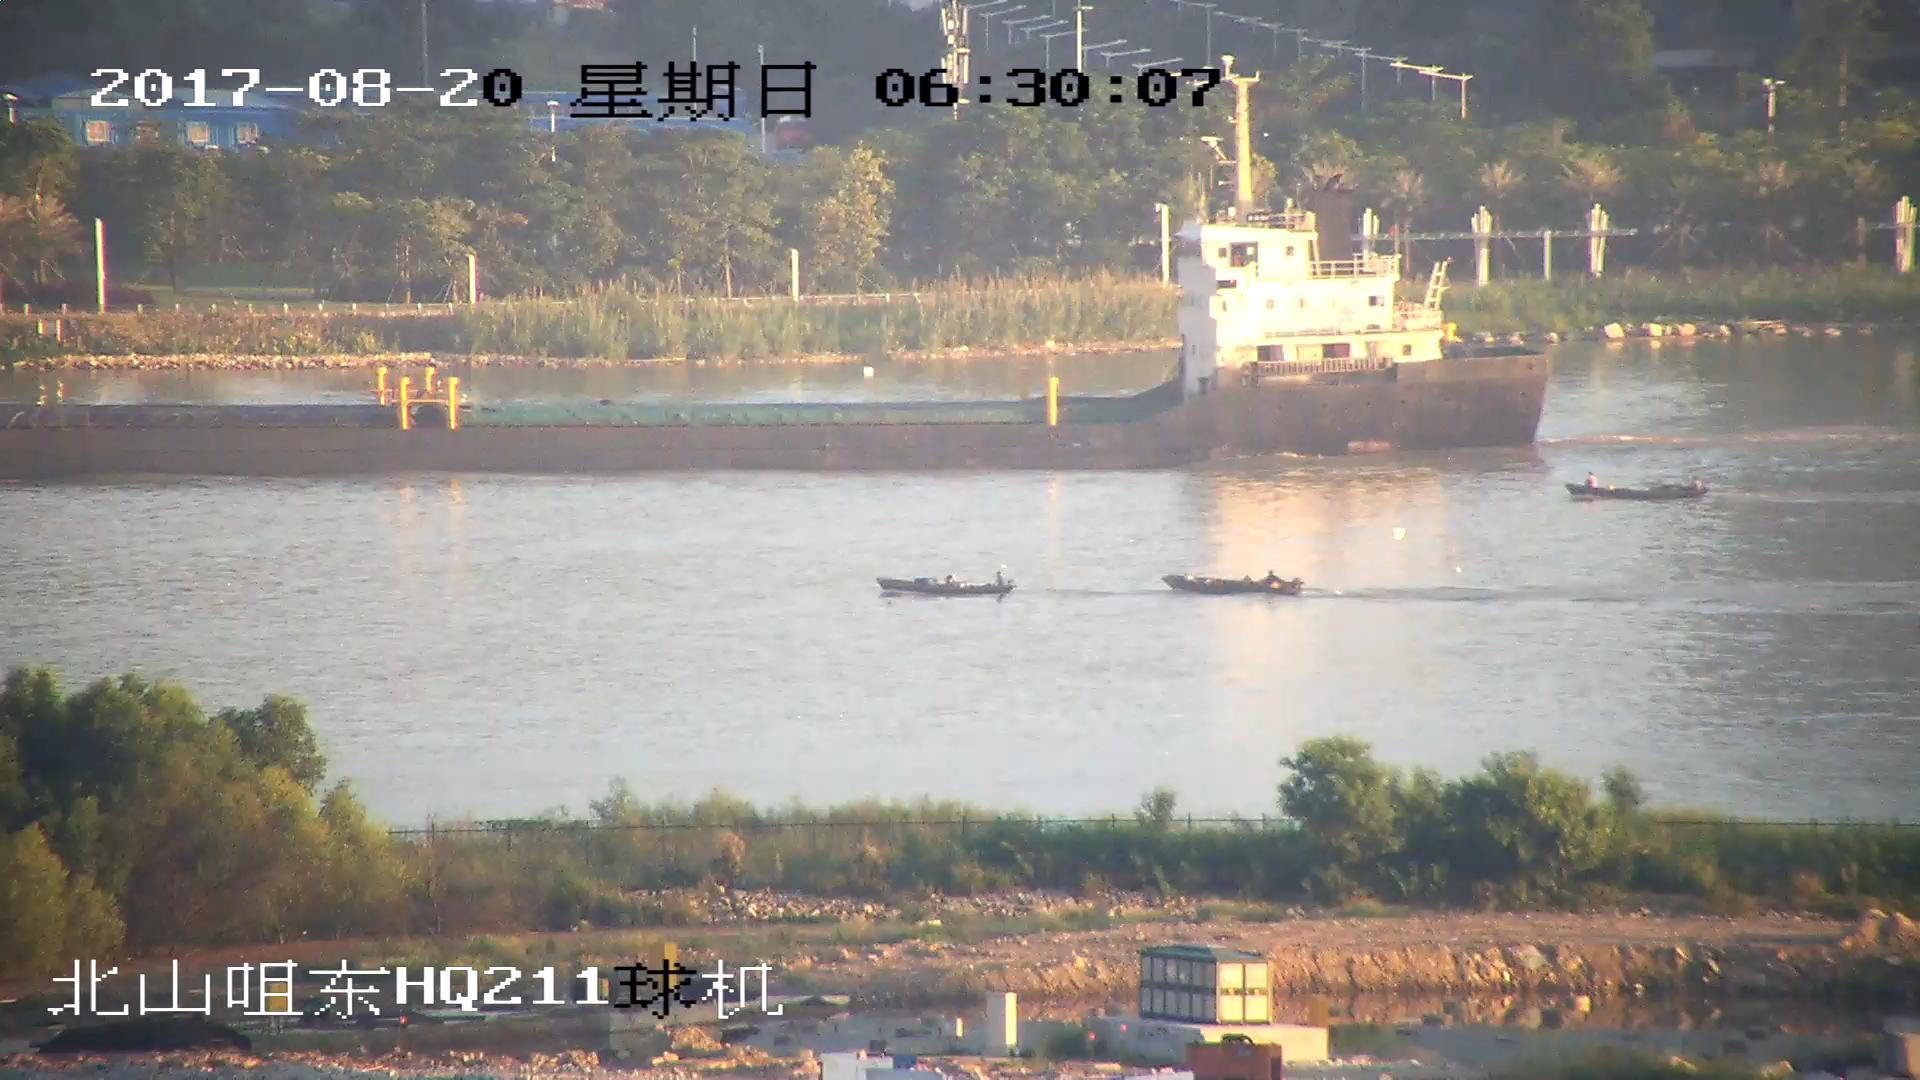Ship: (3, 123, 1552, 477), (878, 568, 1014, 601), (1168, 571, 1305, 599), (1571, 477, 1708, 498)
